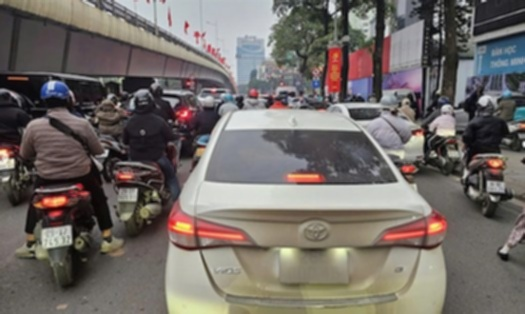Bien-so: (29, 199, 61, 225), (110, 169, 132, 184), (491, 188, 510, 201), (451, 155, 466, 163), (409, 183, 419, 195), (0, 132, 7, 143)
